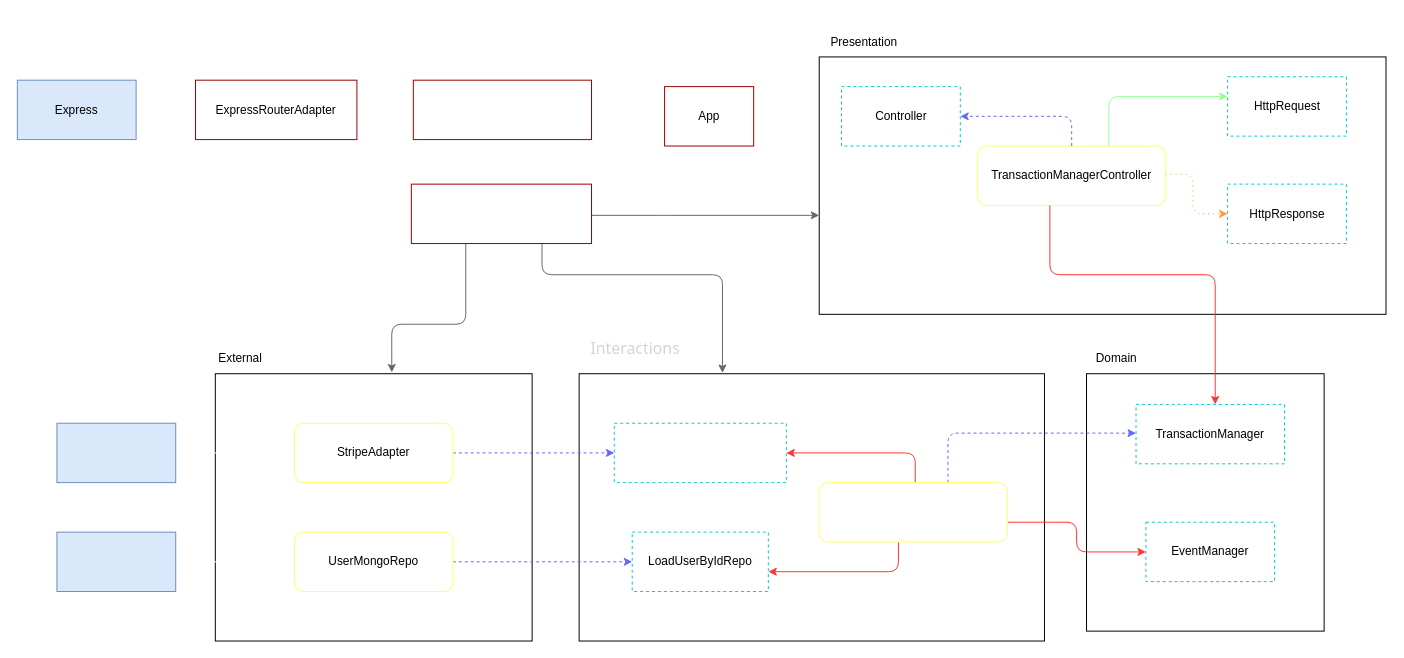
The diagram is 1404 pixels wide and 658 high, and some of its shapes have lost their labels. The shapes that lost their labels are listed below. From the top down, each one's centre as x and y in pixels, then its label:
At [502,109]: "TransactionManagerRouter".
At [501,213]: "TransactionManagerFactory".
At [116,452]: "Stripe".
At [699,452]: "TransactionListnerGateway".
At [912,512]: "TransactionManagerUseCase".
At [116,561]: "MongoDb".
